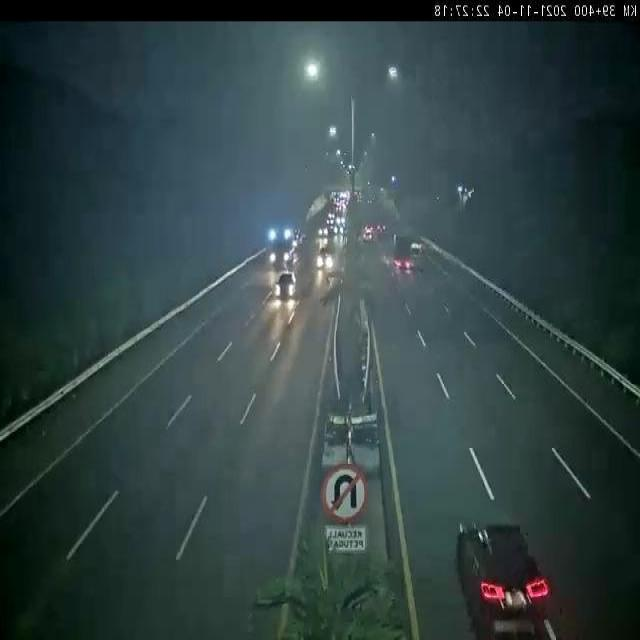Car: (458, 519, 552, 639), (271, 271, 296, 302), (314, 247, 336, 269), (362, 222, 375, 245), (318, 224, 330, 238)
Truck: (261, 222, 300, 272), (390, 230, 414, 278)
